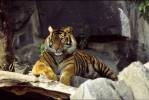Tigre: (41, 23, 111, 81)
